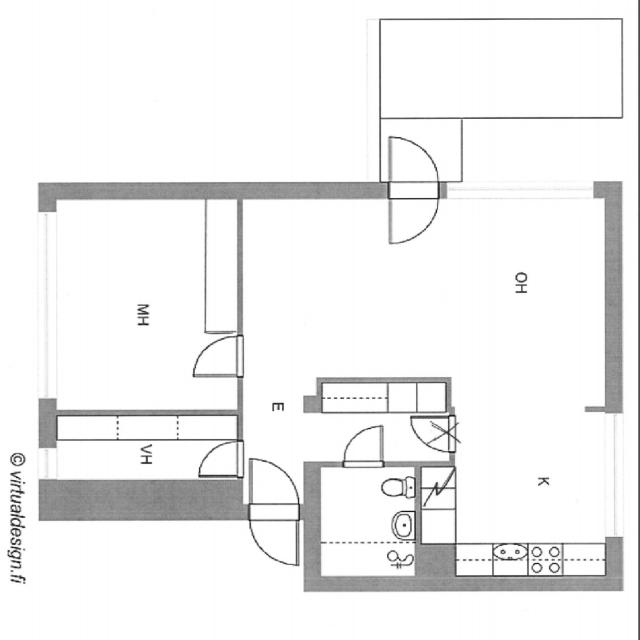door: (378, 131, 445, 248), (241, 451, 302, 517), (245, 508, 303, 568), (186, 329, 248, 382), (334, 419, 389, 471), (406, 416, 456, 462), (191, 436, 245, 478)
window: (27, 214, 71, 412), (443, 174, 603, 207), (594, 411, 630, 540), (31, 441, 62, 485)
zone: (245, 185, 622, 408), (45, 191, 243, 417), (422, 408, 618, 580), (374, 15, 629, 123), (40, 411, 246, 512), (317, 462, 420, 585), (319, 379, 453, 467), (324, 408, 404, 473)
